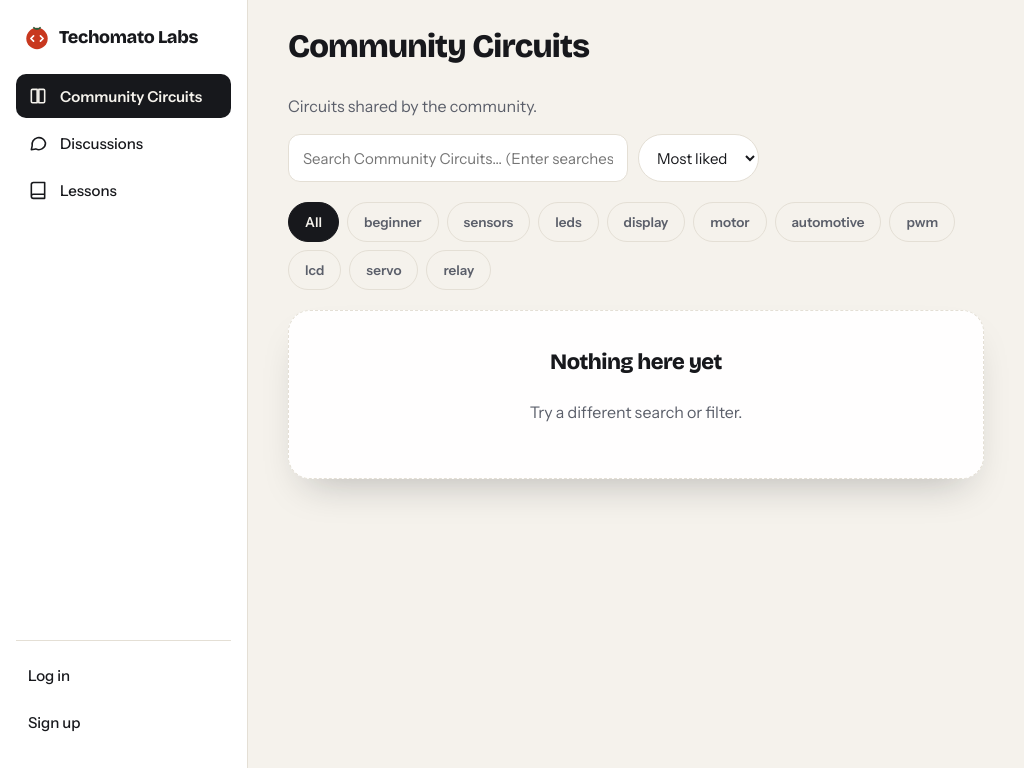
Scenario: GalleryPage › filters by tag when a tag chip is clicked
Click the button "beginner" at (393, 222), box [347,202,438,242]
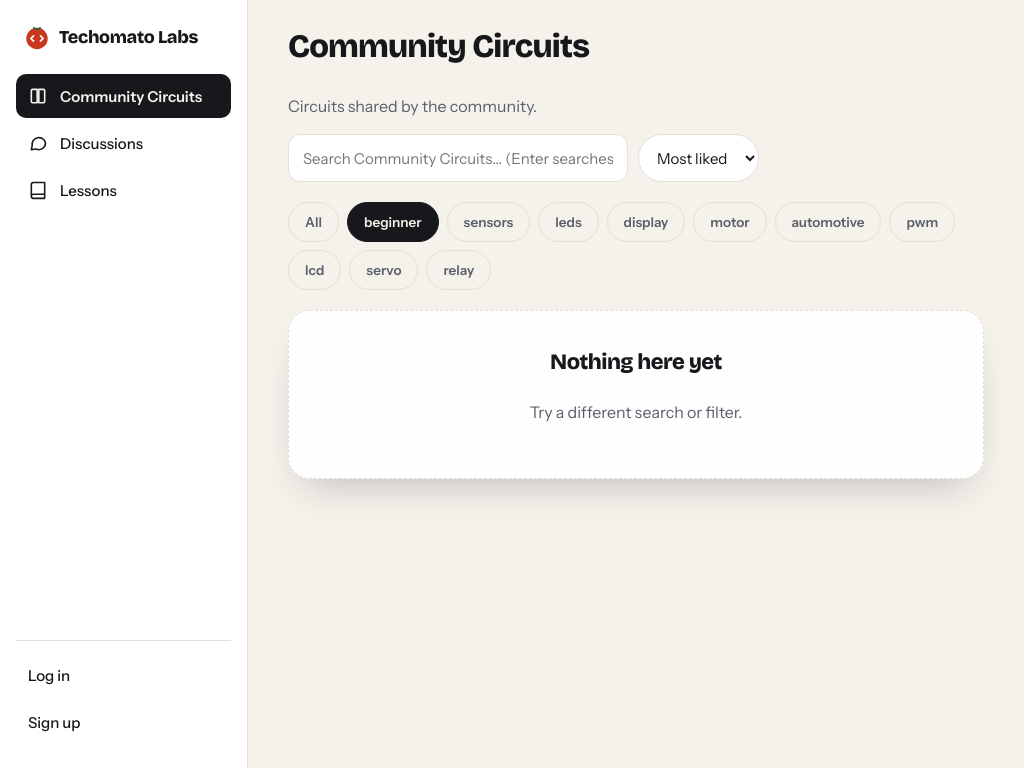
Result: the button "beginner" has class "on" at [347,202,438,242]
